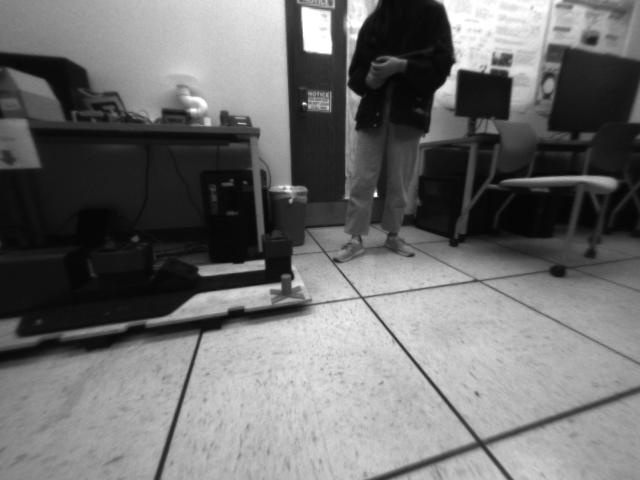x: (269, 272, 306, 305)
